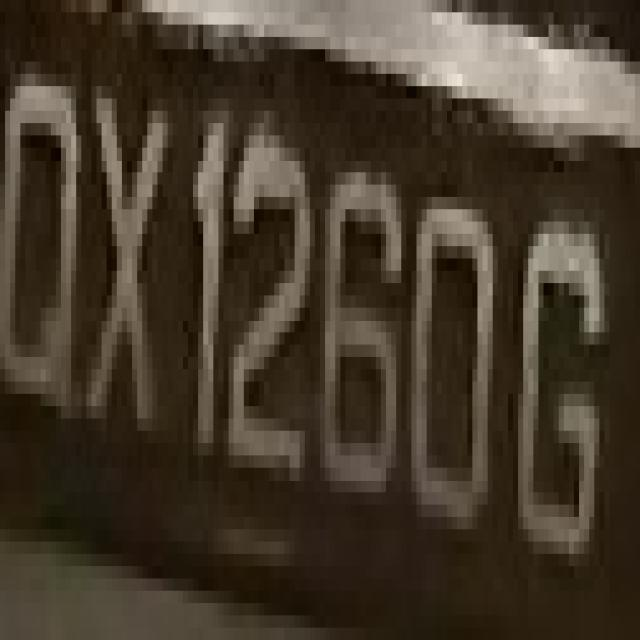0: (396, 148, 508, 590)
1: (183, 62, 239, 480)
2: (223, 98, 315, 530)
6: (325, 99, 406, 542)
G: (503, 148, 620, 603)
Q: (5, 37, 86, 431)
X: (91, 61, 178, 468)
